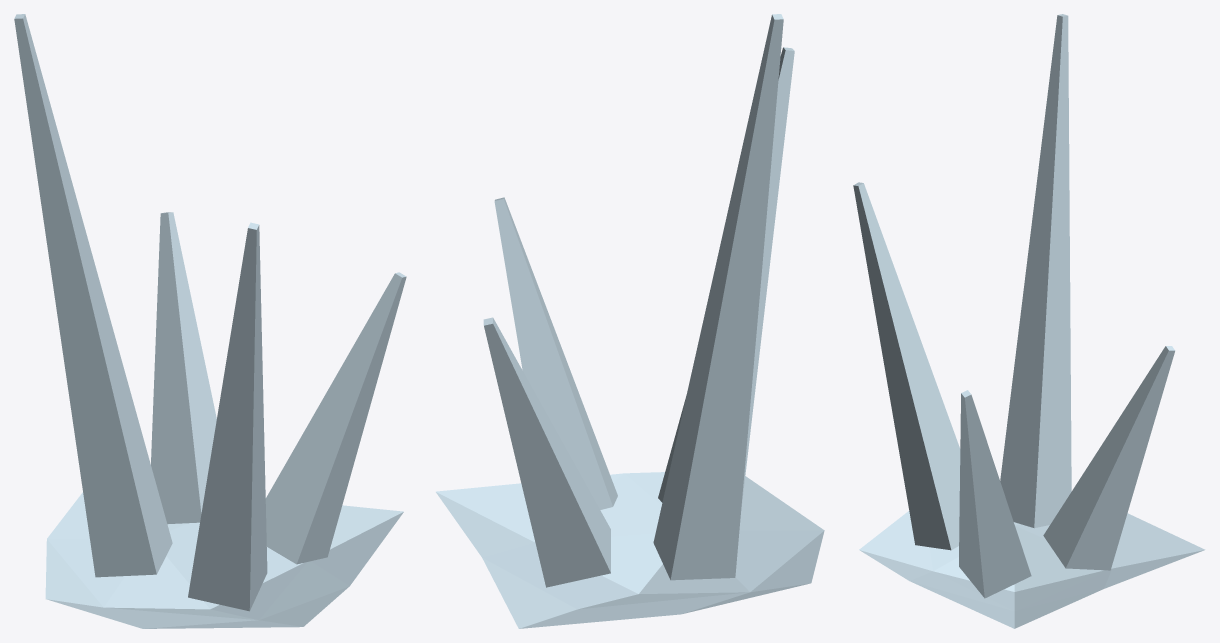
The model's file is ice_shard_v13.glb.
3 views of the same model, side by side, from view 1: azimuth 30°, elevation 25°; view 2: azimuth 150°, elevation 25°; view 3: azimuth 270°, elevation 25° (orthographic). The views are drawn at different scales.
Parts seen in each view (by area): view 1: lod0; view 2: lod0; view 3: lod0.
Part boxes in pixels (<box>): lod0: <box>14,14,406,628</box>; lod0: <box>436,14,824,628</box>; lod0: <box>853,14,1205,628</box>.
Size of what is drawn, in the model's own units: 0.6403 by 1.04 by 0.6475.
